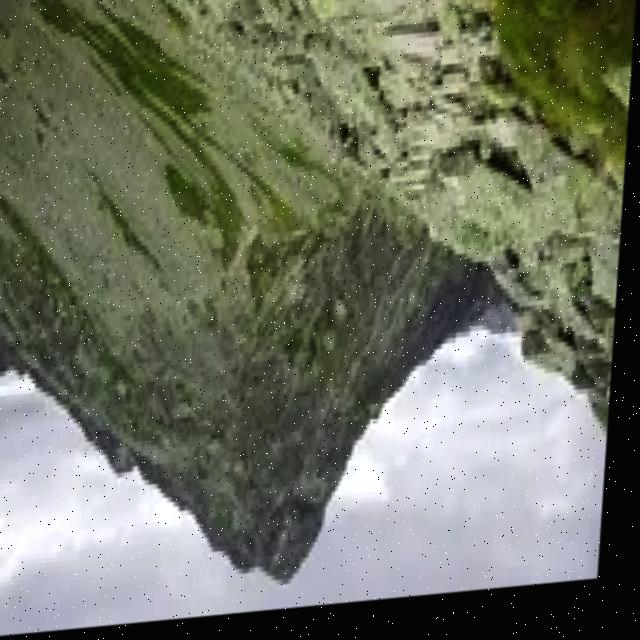Swinica: (184, 524, 333, 617)
